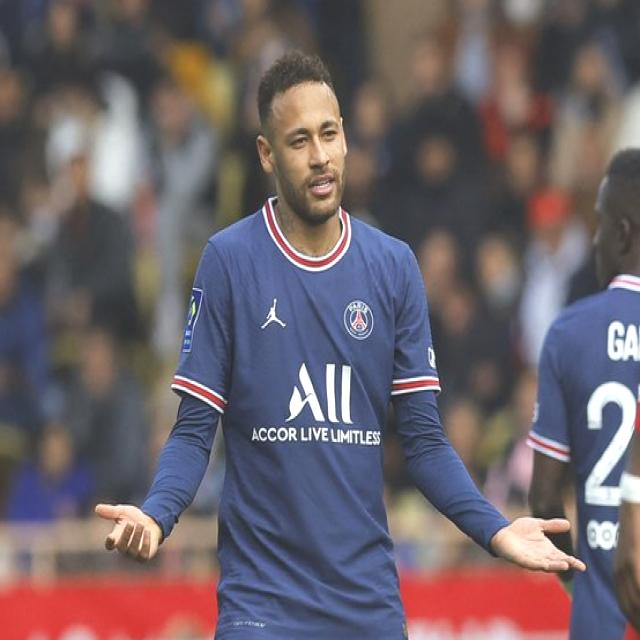neymar: (256, 65, 354, 230)
